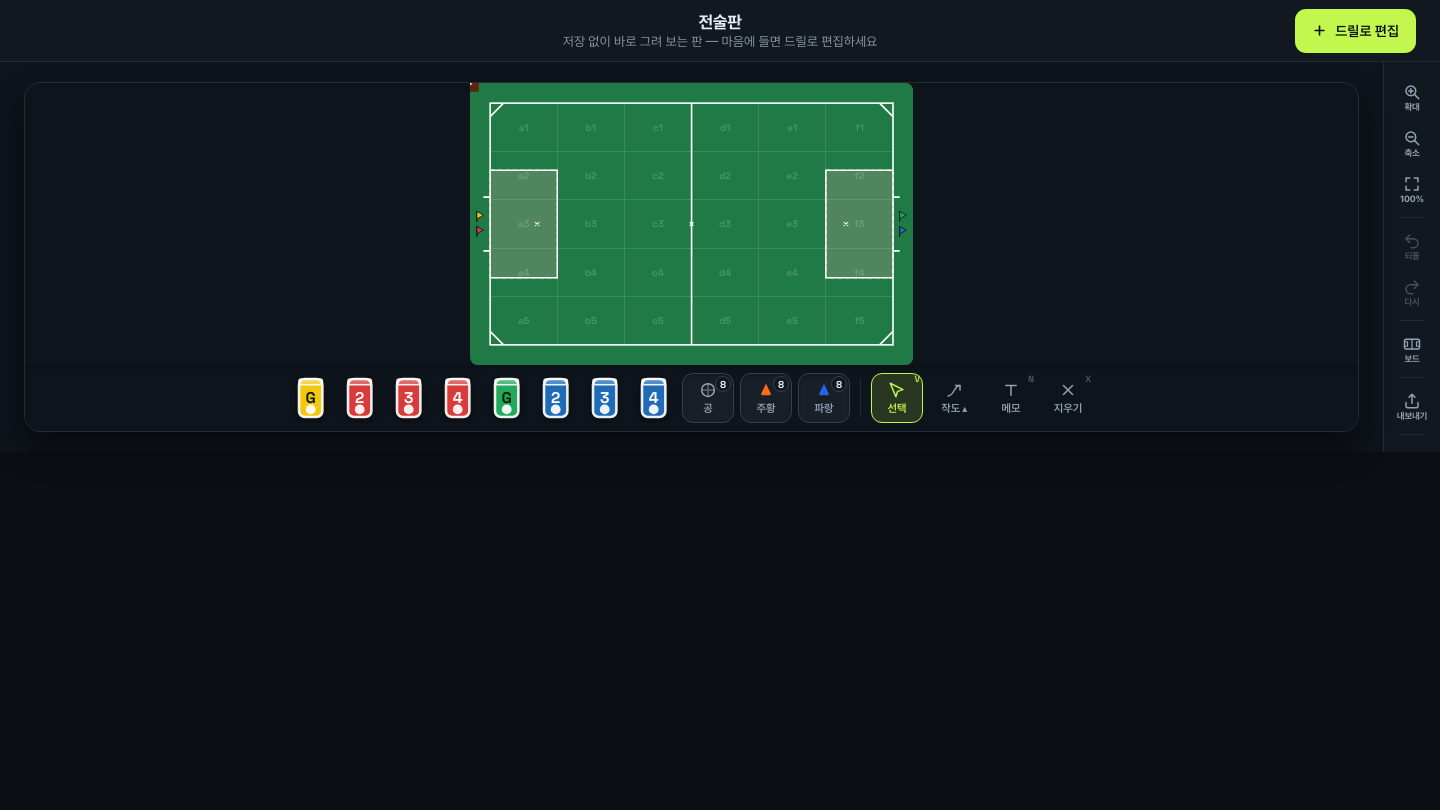
Test: ★ 끌고 있는 고스트는 판 덩어리 밖에 있다 (P4 overflow:hidden 의 대가) › 고스트는 [data-board] 안에 없다 — 안에 있으면 판 밖으로 나간 순간 잘린다
Check: the navigation bar named "도구" is shown, box [25,365,1358,431]
Press the mouse on the button named "2번 선수 배치" at (360, 398), box [338,376,382,420]
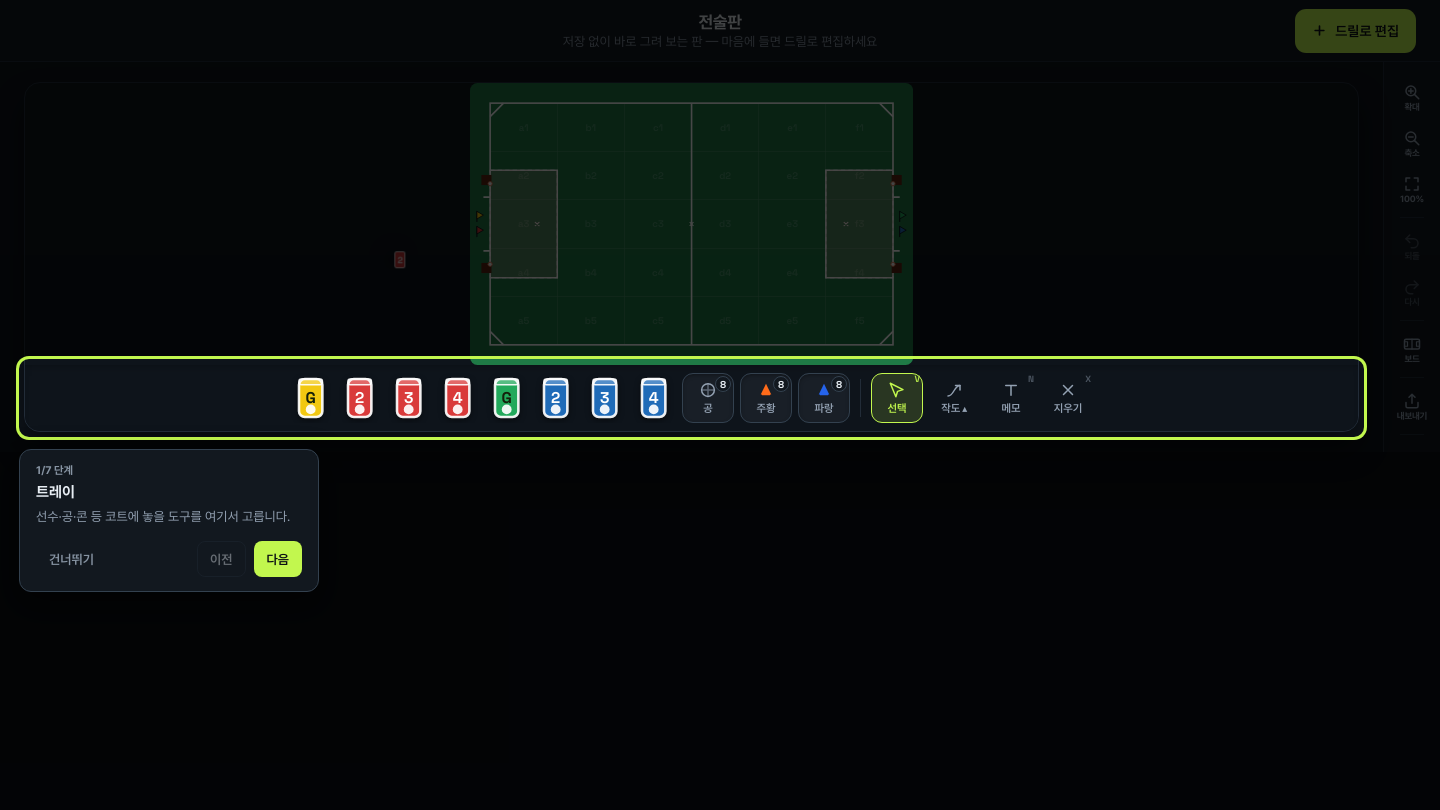
Check: the element showing "2" is shown, box [395,251,405,269]
